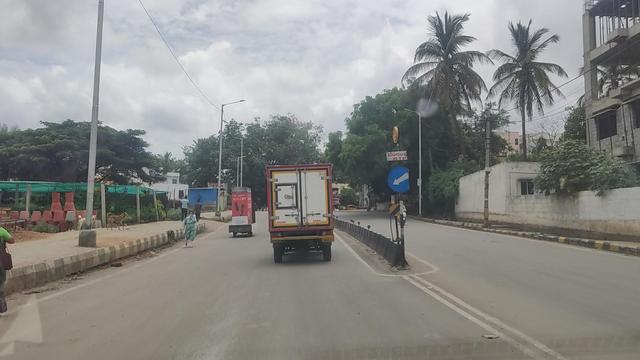HMV: (267, 158, 343, 277)
LMV: (224, 181, 257, 242)
